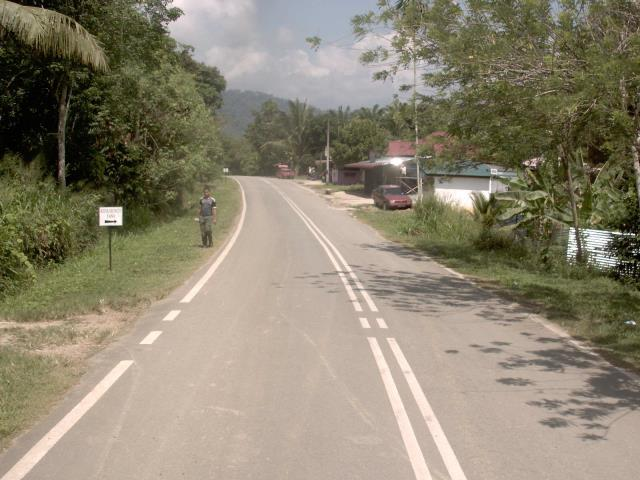ads_sign: (90, 200, 130, 232)
